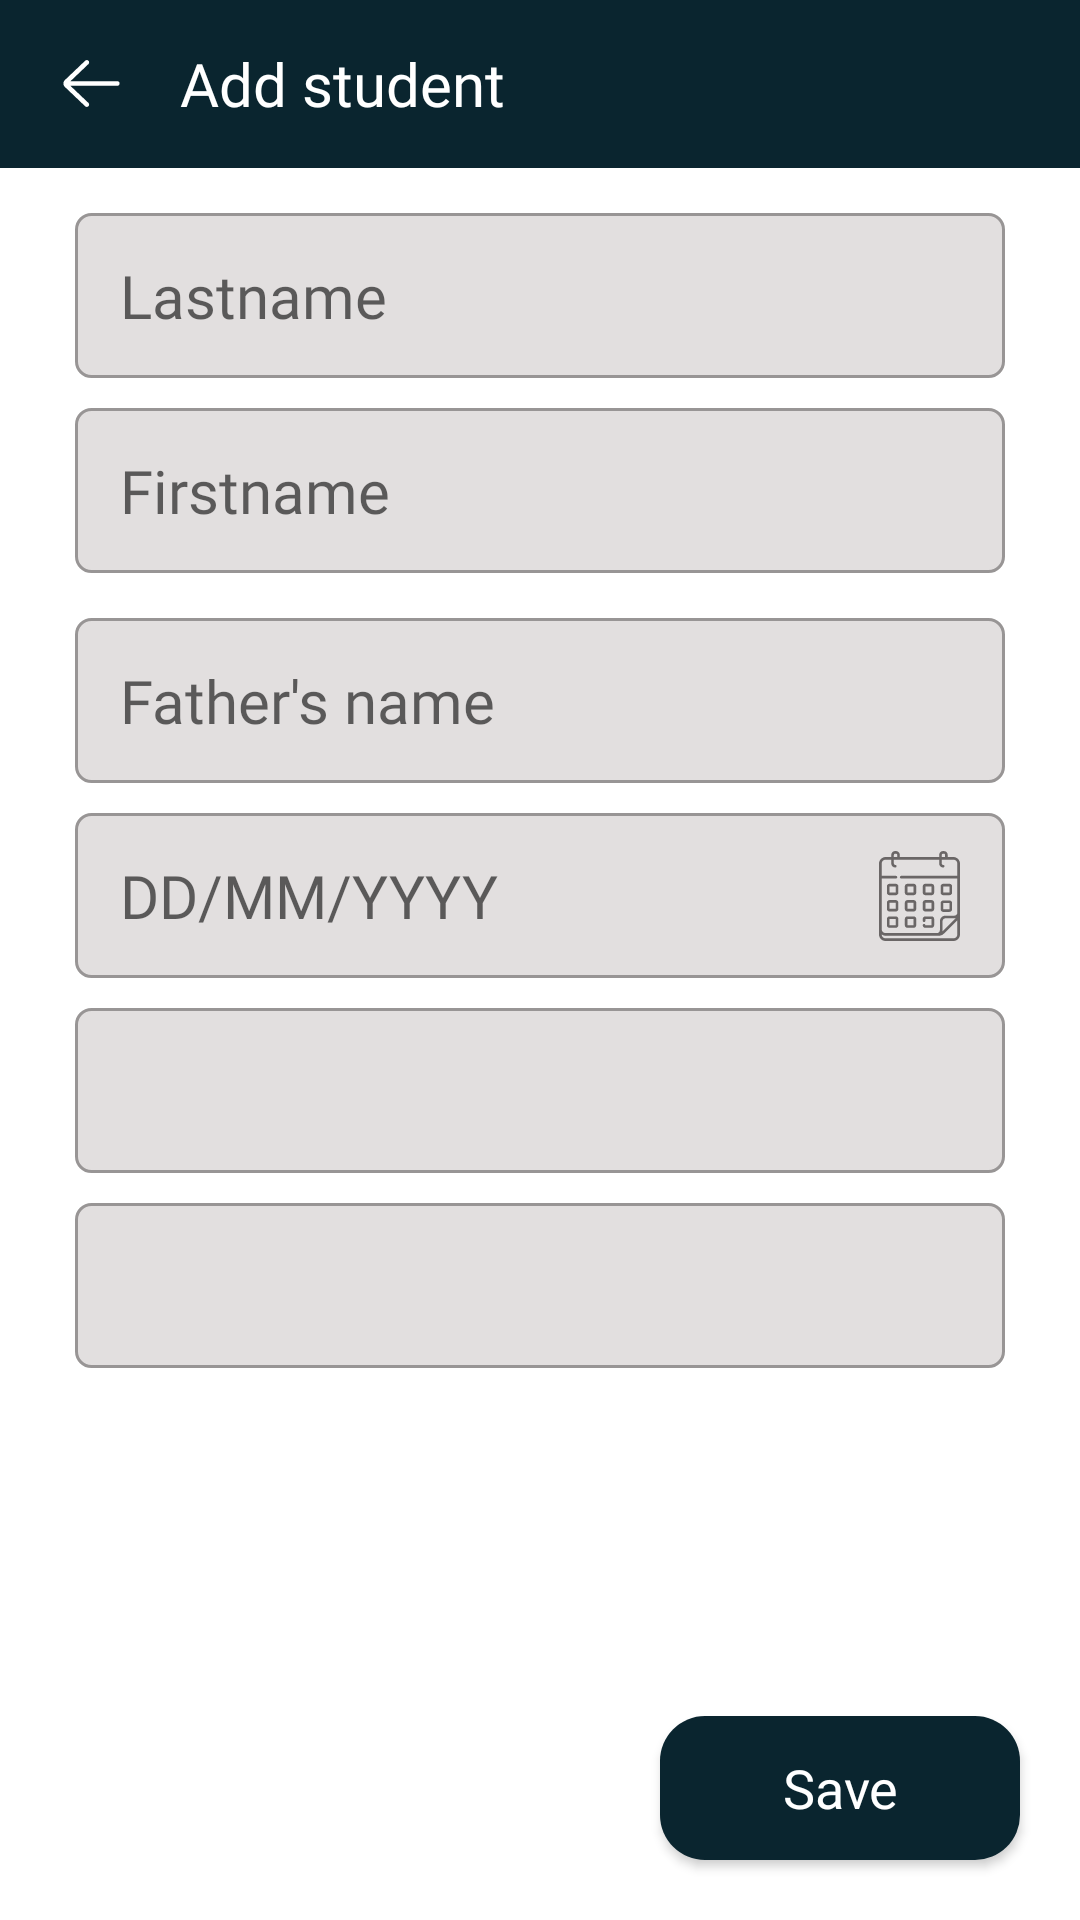

Icons on this 1080 × 1920 Android screen, each with its box as detection(x1, y1, x2, y2):
back: detection(63, 60, 120, 107)
calendar: detection(879, 851, 960, 941)
